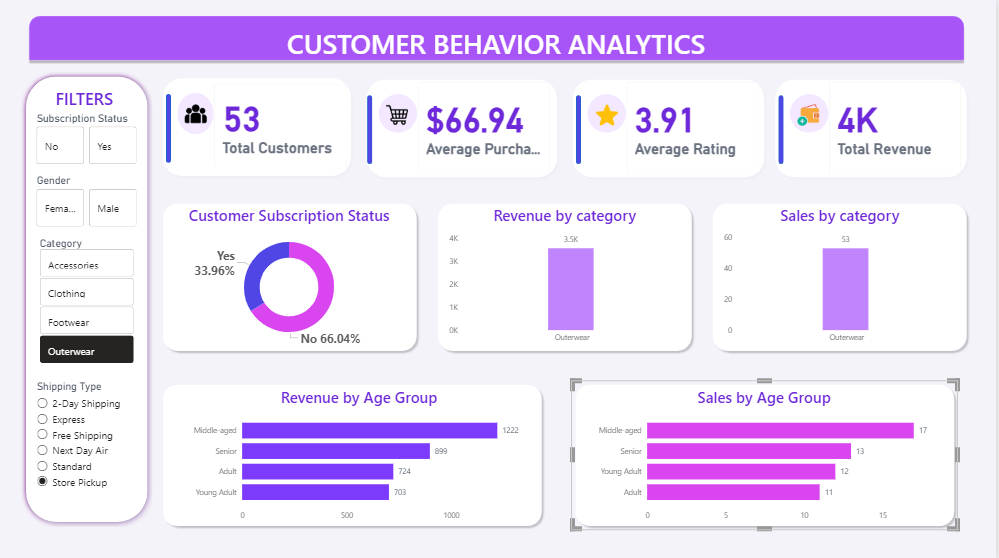

What the dashboard file says about the page in this screenshot:
{"tool":"powerbi","page":{"name":"Page 1","canvas":[1600,900],"ordinal":0},"visuals":[{"type":"shape","box":[40.2,116.1,210.5,729],"z":0},{"type":"shape","box":[260,120,315,170],"z":0,"group":"g9"},{"type":"shape","box":[585,120,318.9,170],"z":0,"group":"g11"},{"type":"shape","box":[915,120,320,170],"z":0,"group":"g10"},{"type":"shape","box":[1240,120,320,170],"z":0,"group":"g12"},{"type":"shape","box":[260,320,420,250],"z":0,"group":"g5"},{"type":"group","id":"g1","title":"Group 6","box":[610,150,62.1,62.1],"z":1000,"group":"g11"},{"type":"group","id":"g2","title":"Group 6","box":[945,150,62.1,62.1],"z":1000,"group":"g10"},{"type":"group","id":"g3","title":"Group 6","box":[1270,150,62.3,62.1],"z":1000,"group":"g12"},{"type":"advancedSlicerVisual","fields":{"Values":["public customer.category"]},"box":[60,380,170,215],"z":1000},{"type":"shape","box":[272,152,8,110],"z":2000,"group":"g9"},{"type":"shape","box":[592,152,8,110],"z":2000,"group":"g11"},{"type":"shape","box":[927,152,8,110],"z":2000,"group":"g10"},{"type":"shape","box":[1252,152,8,110],"z":2000,"group":"g12"},{"type":"shape","box":[700,320,420,250],"z":2000,"group":"g6"},{"type":"listSlicer","fields":{"Values":["public customer.shipping_type"]},"box":[60,610,170,185],"z":2000},{"type":"cardVisual","fields":{"Data":["public customer.Average Purchase Amount"]},"box":[657,115,245,180],"z":3000,"group":"g11"},{"type":"cardVisual","fields":{"Data":["public customer.Average Review Rating"]},"box":[991,115,245,180],"z":3000,"group":"g10"},{"type":"cardVisual","fields":{"Data":["Sum(public customer.purchase_amount)"]},"box":[1316,115,245,180],"z":3000,"group":"g12"},{"type":"cardVisual","fields":{"Data":["public customer.Number of Customers"]},"box":[332,120,248,168],"z":3000,"group":"g9"},{"type":"shape","box":[1140,320,420,250],"z":3000,"group":"g7"},{"type":"shape","box":[260,610,620,240],"z":3000},{"type":"group","id":"g4","title":"Group 6","box":[290,150,58.4,66.6],"z":3500,"group":"g9"},{"type":"clusteredColumnChart","title":"Revenue by category","fields":{"Y":["Sum(public customer.purchase_amount)"],"Category":["public customer.category"]},"box":[720,330,380,230],"z":4000,"group":"g6"},{"type":"shape","box":[920,610,620,240],"z":4000,"group":"g13"},{"type":"shape","box":[45,20,1510,85],"z":5000},{"type":"donutChart","title":"Customer Subscription Status","fields":{"Category":["public customer.subscription_status"],"Y":["CountNonNull(public customer.customer_id)"]},"box":[284,330,370,230],"z":5000,"group":"g5"},{"type":"clusteredBarChart","title":"Sales by Age Group","fields":{"Y":["CountNonNull(public customer.customer_id)"],"Category":["public customer.age_group"]},"box":[953,620,550,225],"z":5000,"group":"g13"},{"type":"textbox","box":[450,35,700,95],"z":6000},{"type":"clusteredBarChart","title":"Revenue by Age Group","fields":{"Category":["public customer.age_group"],"Y":["Sum(public customer.purchase_amount)"]},"box":[305,620,550,225],"z":7000},{"type":"textbox","box":[90,135,120,45],"z":8000},{"type":"advancedSlicerVisual","fields":{"Values":["public customer.subscription_status"]},"box":[60,180,170,90],"z":9000},{"type":"advancedSlicerVisual","title":"Gender","fields":{"Values":["public customer.gender"]},"box":[60,280,170,90],"z":10000},{"type":"group","id":"g5","title":"Group 1","box":[260,320,420,250],"z":13000},{"type":"group","id":"g6","title":"Group 2","box":[700,320,420,250],"z":14000},{"type":"group","id":"g7","title":"Group 3","box":[1140,320,420,250],"z":15000},{"type":"clusteredColumnChart","title":"Sales by category","fields":{"Category":["public customer.category"],"Y":["CountNonNull(public customer.customer_id)"]},"box":[1160,330,380,230],"z":15000,"group":"g7"},{"type":"group","id":"g8","title":"Group 4","box":[920,610,620,240],"z":16000},{"type":"group","id":"g9","title":"Group 7","box":[260,120,320,170],"z":17000},{"type":"group","id":"g10","title":"Group 7","box":[915,115,321,180],"z":18000},{"type":"group","id":"g11","title":"Group 7","box":[585,115,318.9,180],"z":19000},{"type":"shape","box":[290,150,58.4,66.6],"z":19000,"group":"g4"},{"type":"shape","box":[610,150,62.1,62.1],"z":19000,"group":"g1"},{"type":"shape","box":[945,150,62.1,62.1],"z":19000,"group":"g2"},{"type":"shape","box":[1270,150,62.3,62.1],"z":19000,"group":"g3"},{"type":"group","id":"g12","title":"Group 7","box":[1240,115,321,180],"z":20000},{"type":"image","box":[302,165,35,35],"z":20000,"group":"g4"},{"type":"image","box":[622,165,35,35],"z":20000,"group":"g1"},{"type":"image","box":[958,165,35,35],"z":20000,"group":"g2"},{"type":"image","box":[1282,165,35,35],"z":20000,"group":"g3"},{"type":"group","id":"g13","title":"Group 5","box":[920,610,620,240],"z":20002,"group":"g8"}]}

Visuals, with their boxes in screenshot pixels (x1, y1, x2, y2), scaled from the page's 1600x900 canvas onto the 999x558 screenshot:
shape: pyautogui.locateOnScreen(25, 72, 157, 524)
shape: pyautogui.locateOnScreen(162, 74, 359, 180)
shape: pyautogui.locateOnScreen(365, 74, 564, 180)
shape: pyautogui.locateOnScreen(571, 74, 771, 180)
shape: pyautogui.locateOnScreen(774, 74, 974, 180)
shape: pyautogui.locateOnScreen(162, 198, 425, 353)
"Group 6" group: pyautogui.locateOnScreen(381, 93, 420, 132)
"Group 6" group: pyautogui.locateOnScreen(590, 93, 629, 132)
"Group 6" group: pyautogui.locateOnScreen(793, 93, 832, 132)
advancedSlicerVisual - public customer.category: pyautogui.locateOnScreen(37, 236, 144, 369)
shape: pyautogui.locateOnScreen(170, 94, 175, 162)
shape: pyautogui.locateOnScreen(370, 94, 375, 162)
shape: pyautogui.locateOnScreen(579, 94, 584, 162)
shape: pyautogui.locateOnScreen(782, 94, 787, 162)
shape: pyautogui.locateOnScreen(437, 198, 699, 353)
listSlicer - public customer.shipping_type: pyautogui.locateOnScreen(37, 378, 144, 493)
cardVisual - public customer.Average Purchase Amount: pyautogui.locateOnScreen(410, 71, 563, 183)
cardVisual - public customer.Average Review Rating: pyautogui.locateOnScreen(619, 71, 772, 183)
cardVisual - Sum(public customer.purchase_amount): pyautogui.locateOnScreen(822, 71, 975, 183)
cardVisual - public customer.Number of Customers: pyautogui.locateOnScreen(207, 74, 362, 179)
shape: pyautogui.locateOnScreen(712, 198, 974, 353)
shape: pyautogui.locateOnScreen(162, 378, 549, 527)
"Group 6" group: pyautogui.locateOnScreen(181, 93, 218, 134)
"Revenue by category" clusteredColumnChart: pyautogui.locateOnScreen(450, 205, 687, 347)
shape: pyautogui.locateOnScreen(574, 378, 962, 527)
shape: pyautogui.locateOnScreen(28, 12, 971, 65)
"Customer Subscription Status" donutChart: pyautogui.locateOnScreen(177, 205, 408, 347)
"Sales by Age Group" clusteredBarChart: pyautogui.locateOnScreen(595, 384, 938, 524)
textbox: pyautogui.locateOnScreen(281, 22, 718, 81)
"Revenue by Age Group" clusteredBarChart: pyautogui.locateOnScreen(190, 384, 534, 524)
textbox: pyautogui.locateOnScreen(56, 84, 131, 112)
advancedSlicerVisual - public customer.subscription_status: pyautogui.locateOnScreen(37, 112, 144, 167)
"Gender" advancedSlicerVisual: pyautogui.locateOnScreen(37, 174, 144, 229)
"Group 1" group: pyautogui.locateOnScreen(162, 198, 425, 353)
"Group 2" group: pyautogui.locateOnScreen(437, 198, 699, 353)
"Group 3" group: pyautogui.locateOnScreen(712, 198, 974, 353)
"Sales by category" clusteredColumnChart: pyautogui.locateOnScreen(724, 205, 962, 347)
"Group 4" group: pyautogui.locateOnScreen(574, 378, 962, 527)
"Group 7" group: pyautogui.locateOnScreen(162, 74, 362, 180)
"Group 7" group: pyautogui.locateOnScreen(571, 71, 772, 183)
"Group 7" group: pyautogui.locateOnScreen(365, 71, 564, 183)
shape: pyautogui.locateOnScreen(181, 93, 218, 134)
shape: pyautogui.locateOnScreen(381, 93, 420, 132)
shape: pyautogui.locateOnScreen(590, 93, 629, 132)
shape: pyautogui.locateOnScreen(793, 93, 832, 132)
"Group 7" group: pyautogui.locateOnScreen(774, 71, 975, 183)
image: pyautogui.locateOnScreen(189, 102, 210, 124)
image: pyautogui.locateOnScreen(388, 102, 410, 124)
image: pyautogui.locateOnScreen(598, 102, 620, 124)
image: pyautogui.locateOnScreen(800, 102, 822, 124)
"Group 5" group: pyautogui.locateOnScreen(574, 378, 962, 527)
